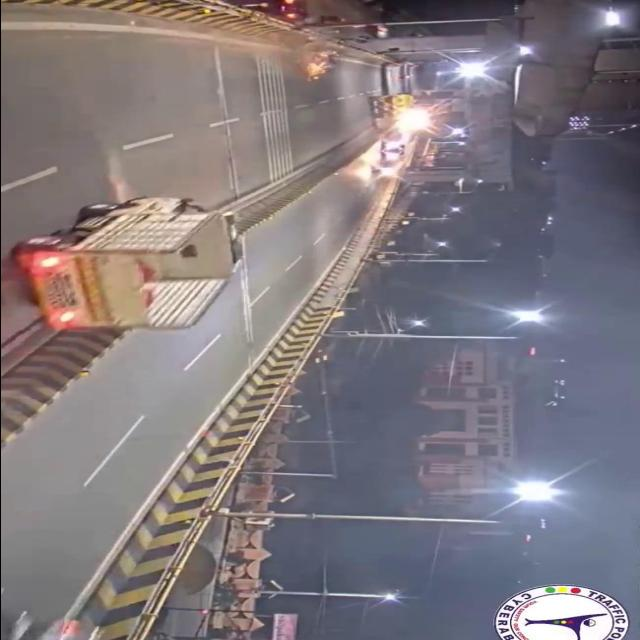accident: (298, 46, 342, 82)
